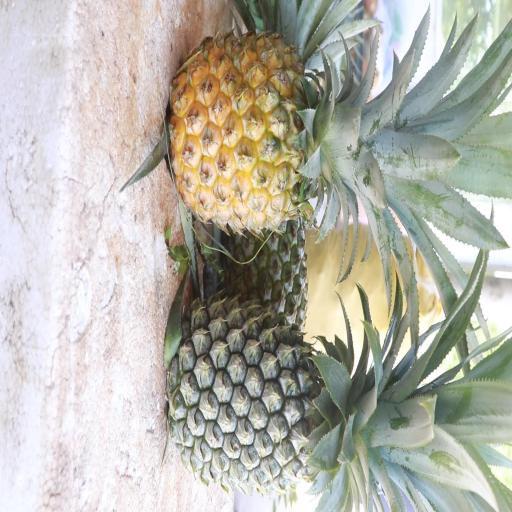Pineapple - v8 v1: (162, 26, 432, 246)
